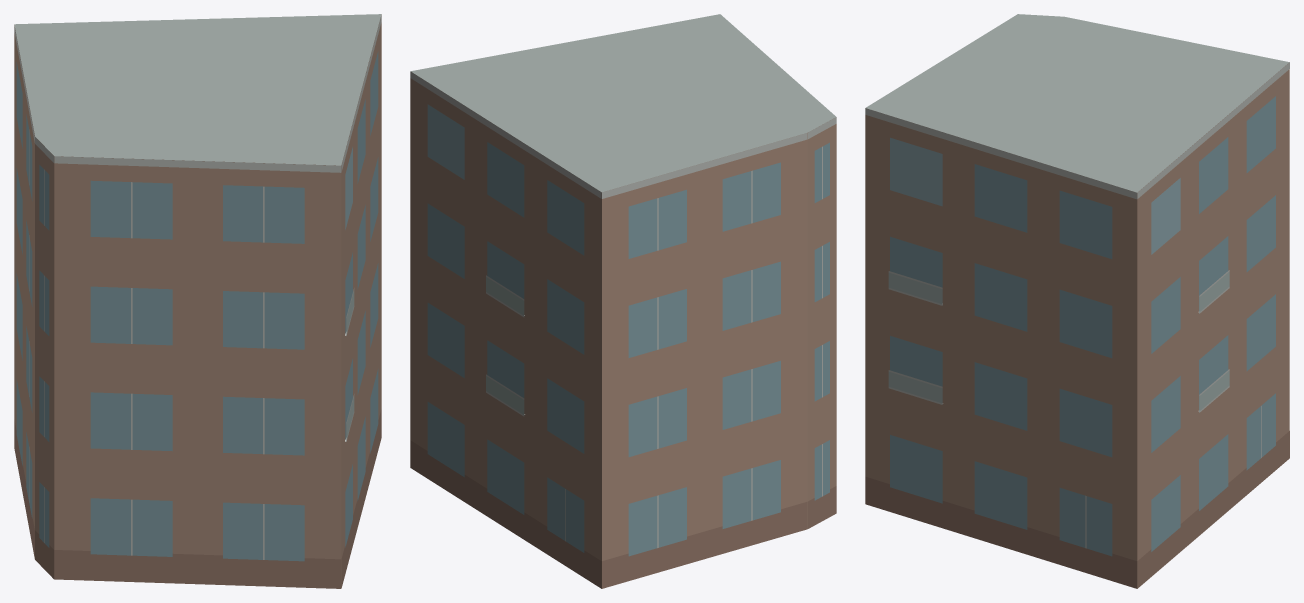
The model's file is survey-upis-32983348.glb.
3 views of the same model, side by side, from view 1: azimuth 30°, elevation 25°; view 2: azimuth 150°, elevation 25°; view 3: azimuth 270°, elevation 25° (orthographic). The views are drawn at different scales.
Parts seen in each view (by area): view 1: survey-upis-32983348.tmp; view 2: survey-upis-32983348.tmp; view 3: survey-upis-32983348.tmp.
Boxes of the visible parts, <box> form: survey-upis-32983348.tmp: <box>14,14,381,588</box>; survey-upis-32983348.tmp: <box>410,14,836,588</box>; survey-upis-32983348.tmp: <box>865,14,1289,588</box>.
Size of the model in its own units: 13.84 by 14.3 by 13.89.
